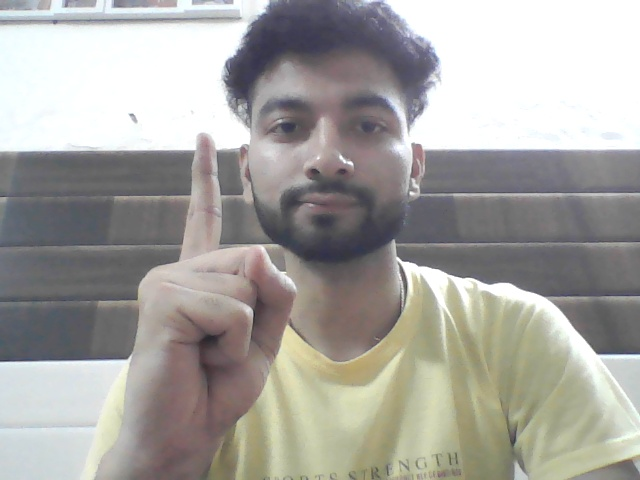Yes: (132, 134, 297, 465)
